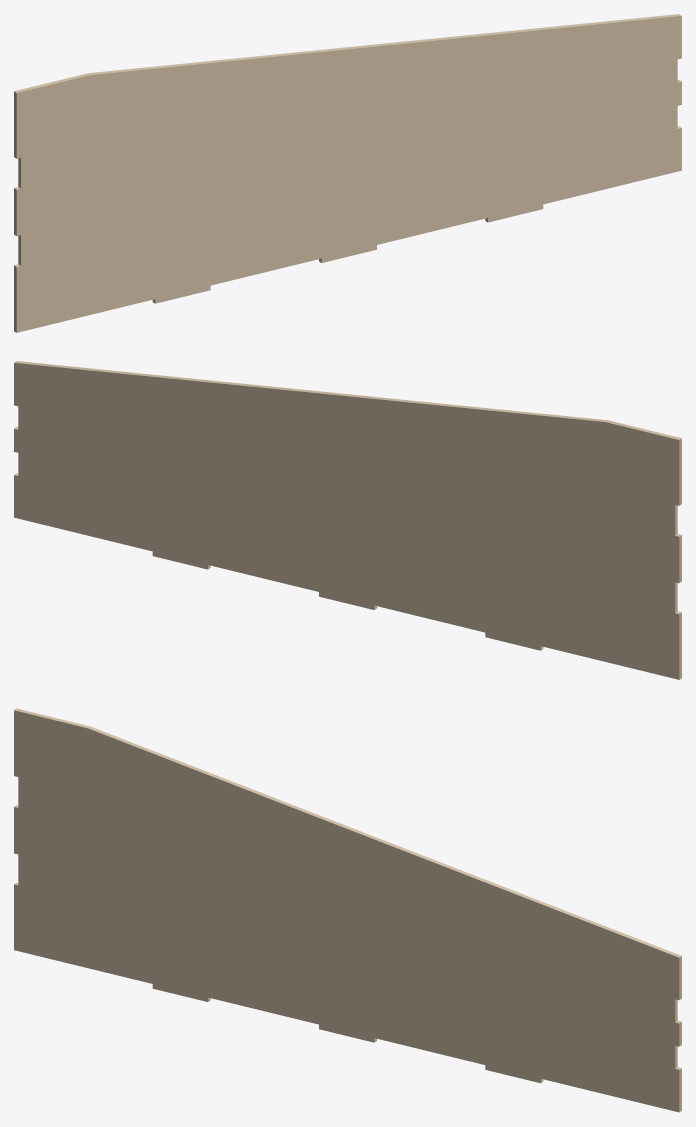
The model's file is box-finger-joints-boxprojectfinger-side-right.glb.
The picture shows the model from 3 angles, top to bottom: view 1: azimuth 30°, elevation 25°; view 2: azimuth 150°, elevation 25°; view 3: azimuth 330°, elevation 25°; orthographic projection.
Visible parts, largest first — view 1: Side Right; view 2: Side Right; view 3: Side Right.
Part boxes in pixels (<box>): Side Right: <box>14,14,681,332</box>; Side Right: <box>14,361,681,679</box>; Side Right: <box>14,708,681,1112</box>.
Bounding box in the file's own units: 0.9 × 0.316 × 0.006.
